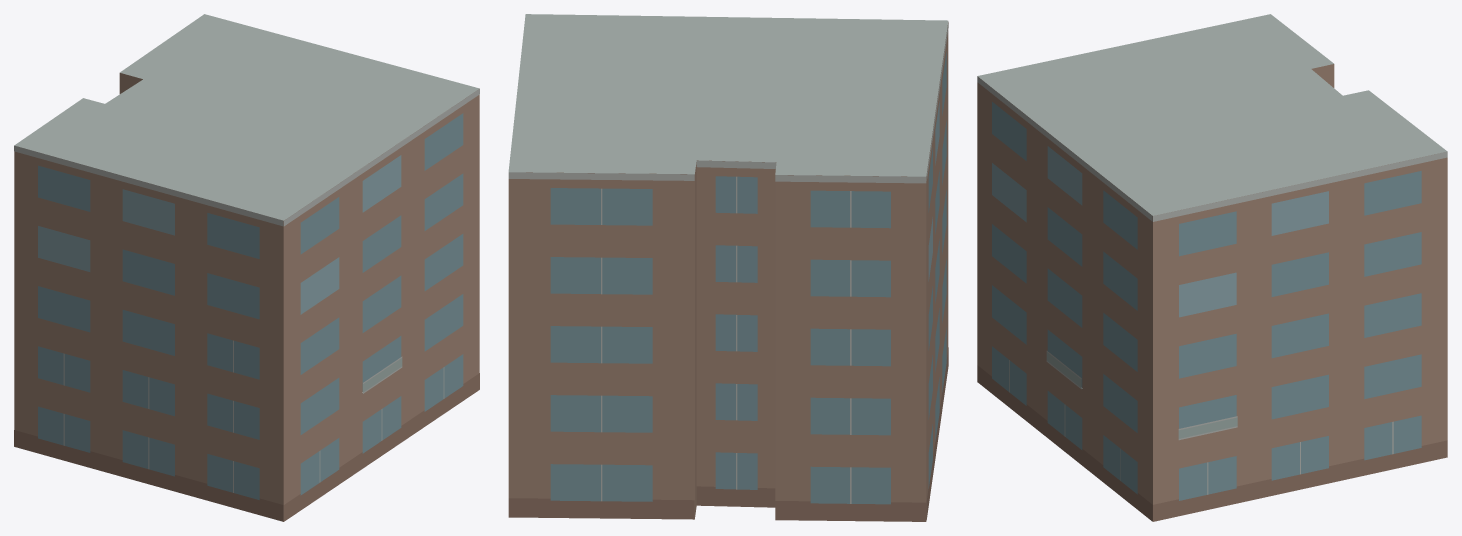
Rendered from survey-upis-32981824.glb.
The picture shows the model from 3 angles, left to right: view 1: azimuth 30°, elevation 25°; view 2: azimuth 150°, elevation 25°; view 3: azimuth 270°, elevation 25°; orthographic projection. The views are drawn at different scales.
Parts seen in each view (by area): view 1: survey-upis-32981824.tmp; view 2: survey-upis-32981824.tmp; view 3: survey-upis-32981824.tmp.
Part boxes in pixels (box(x1,y1,x2,y2)): survey-upis-32981824.tmp: box(14, 14, 479, 521); survey-upis-32981824.tmp: box(508, 14, 948, 521); survey-upis-32981824.tmp: box(977, 14, 1447, 521).
Size of the model in its own units: 17.72 by 12.5 by 17.43.
